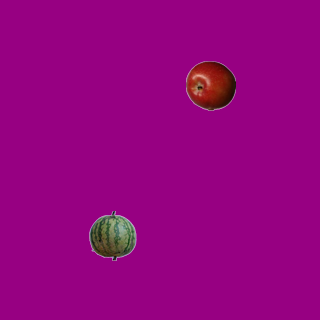Apple Braeburn: (185, 60, 235, 110)
Watermelon: (87, 210, 137, 260)
